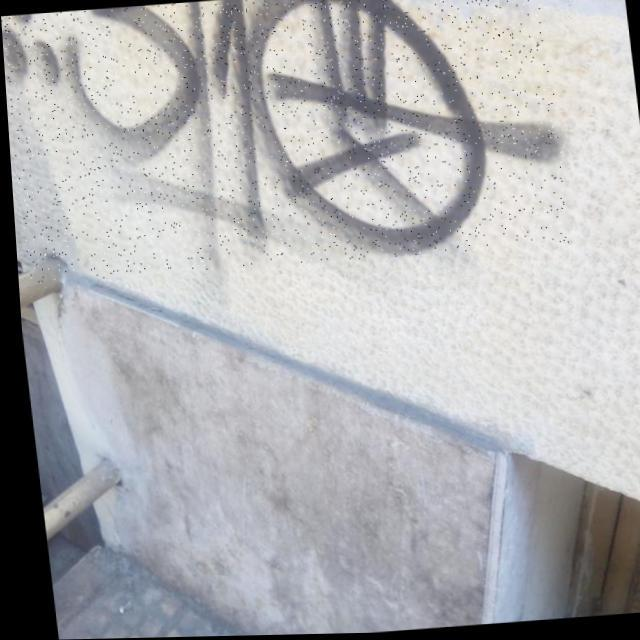-: (0, 0, 570, 284)
